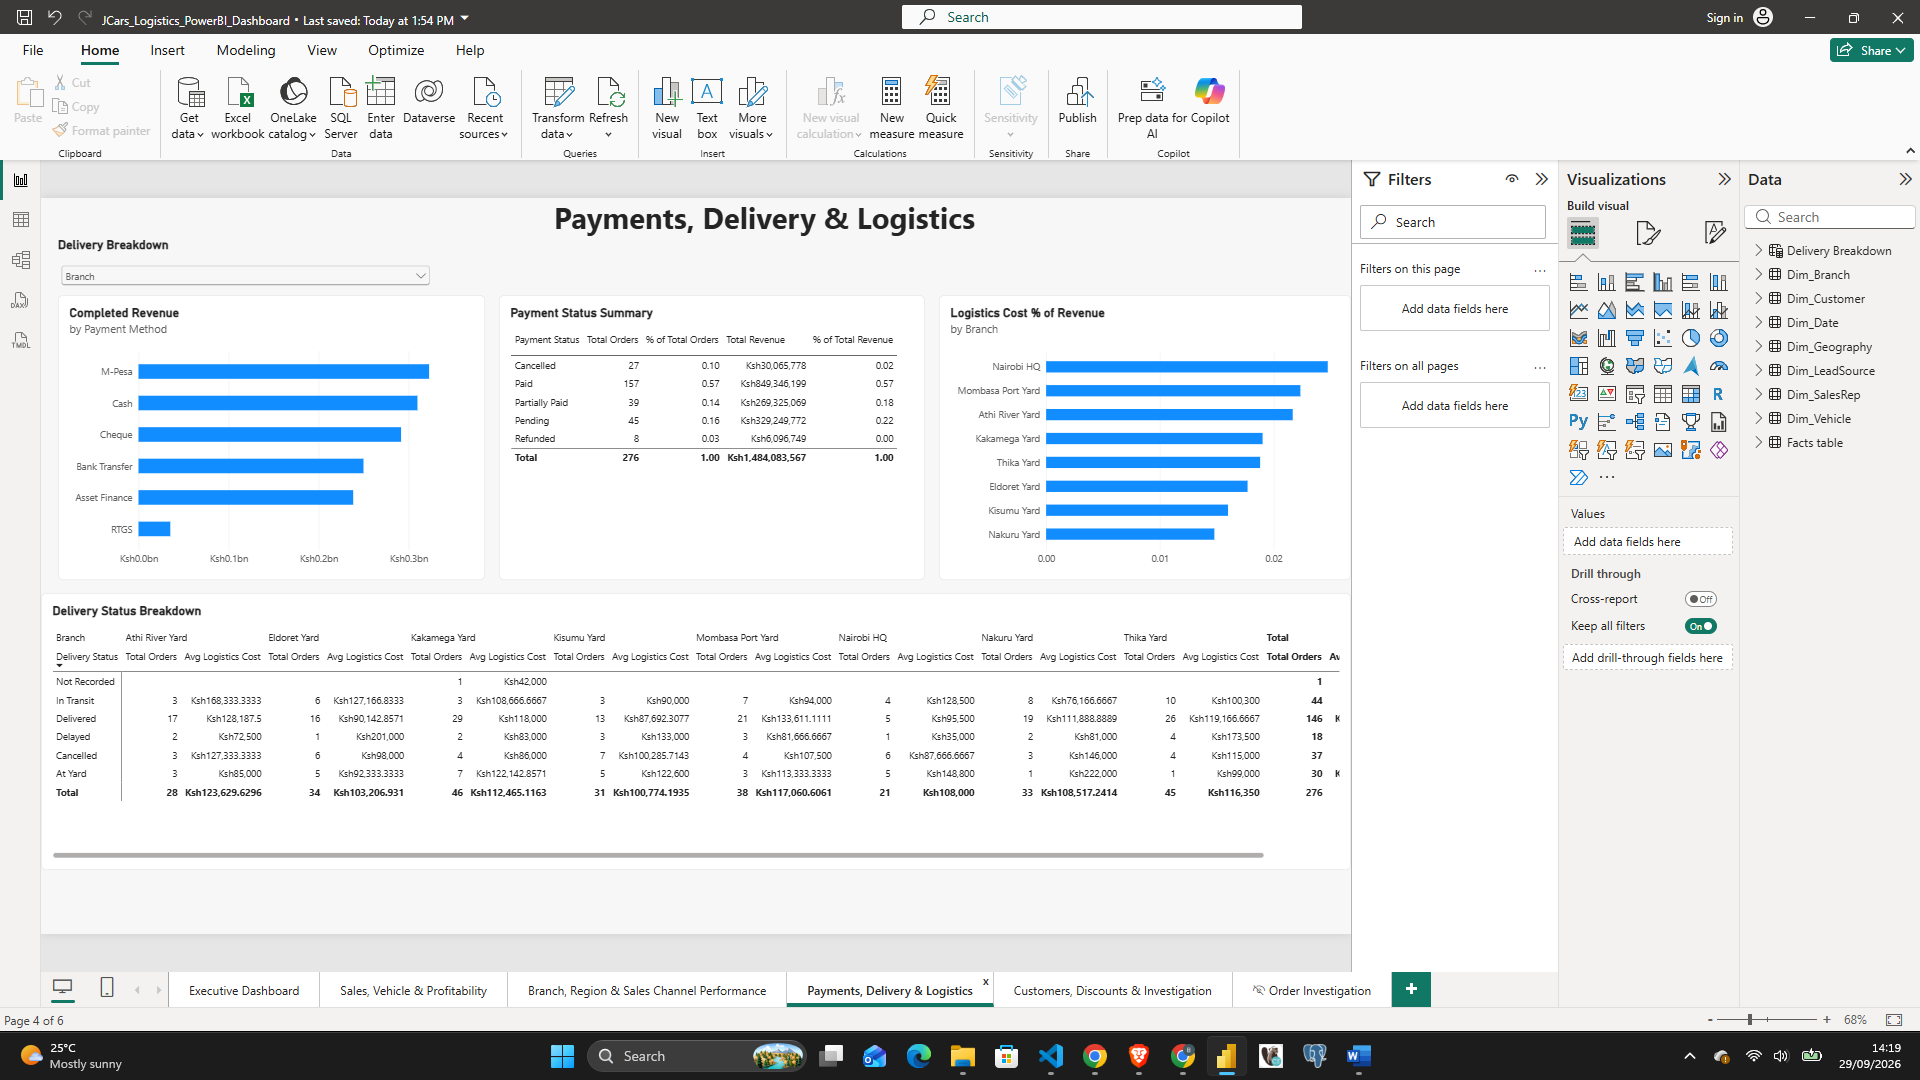

Layout of this report page (visuals, bound fields, positions):
{"tool":"powerbi","page":{"name":"Payments, Delivery & Logistics","canvas":[1920,1080],"ordinal":3},"visuals":[{"type":"tableEx","title":"Payment Status Summary","fields":{"Values":["Facts table.Payment Status","Facts table.Total Orders","Facts table.% of Total Orders","Facts table.Total Revenue","Facts table.% of Total Revenue"]},"box":[671.3,142.2,624.4,417.7],"z":0},{"type":"clusteredBarChart","fields":{"Category":["Facts table.Payment Method"],"Y":["Facts table.Completed Revenue"]},"box":[24.9,142.2,625.8,417.7],"z":1000},{"type":"pivotTable","title":"Delivery Status Breakdown","fields":{"Rows":["Facts table.Delivery Status"],"Values":["Facts table.Total Orders","Facts table.Avg Logistics Cost"],"Columns":["Dim_Branch.Branch"]},"box":[0,578.9,1920,406],"z":2000},{"type":"barChart","fields":{"Category":["Dim_Branch.Branch"],"Y":["Facts table.Logistics Cost % of Revenue"]},"box":[1316.2,142.2,603.8,417.7],"z":3000},{"type":"textbox","box":[450,0,1220.9,85],"z":3001},{"type":"slicer","title":"Delivery Breakdown","fields":{"Values":["Delivery Breakdown.Delivery Breakdown"]},"box":[24.9,57.2,549.6,85],"z":3002}]}

Visuals, with their boxes on the page's 1920x1080 design canvas (x1, y1, x2, y2). These are canvas units, not pixel positions in the 1920x1080 screenshot, which may show the page scaled, cropped or inside an application window:
"Payment Status Summary" tableEx: l=671, t=142, r=1296, b=560
clusteredBarChart - Facts table.Payment Method x Facts table.Completed Revenue: l=25, t=142, r=651, b=560
"Delivery Status Breakdown" pivotTable: l=0, t=579, r=1920, b=985
barChart - Dim_Branch.Branch x Facts table.Logistics Cost % of Revenue: l=1316, t=142, r=1920, b=560
textbox: l=450, t=0, r=1671, b=85
"Delivery Breakdown" slicer: l=25, t=57, r=574, b=142
